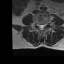CCS_normal: (40, 22, 43, 32)
LFS_normal: (45, 21, 47, 27)
LLS_normal: (43, 22, 45, 30)
RFS_normal: (36, 21, 38, 28)
RLS_normal: (38, 22, 40, 30)
